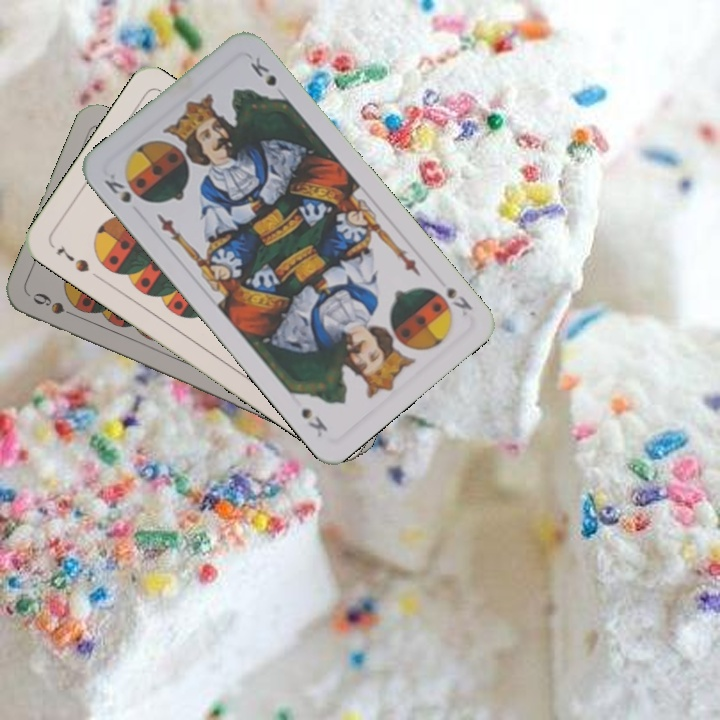S7: (52, 240, 92, 275)
S9: (29, 288, 84, 322)
SK: (442, 283, 475, 319), (100, 175, 134, 206)
